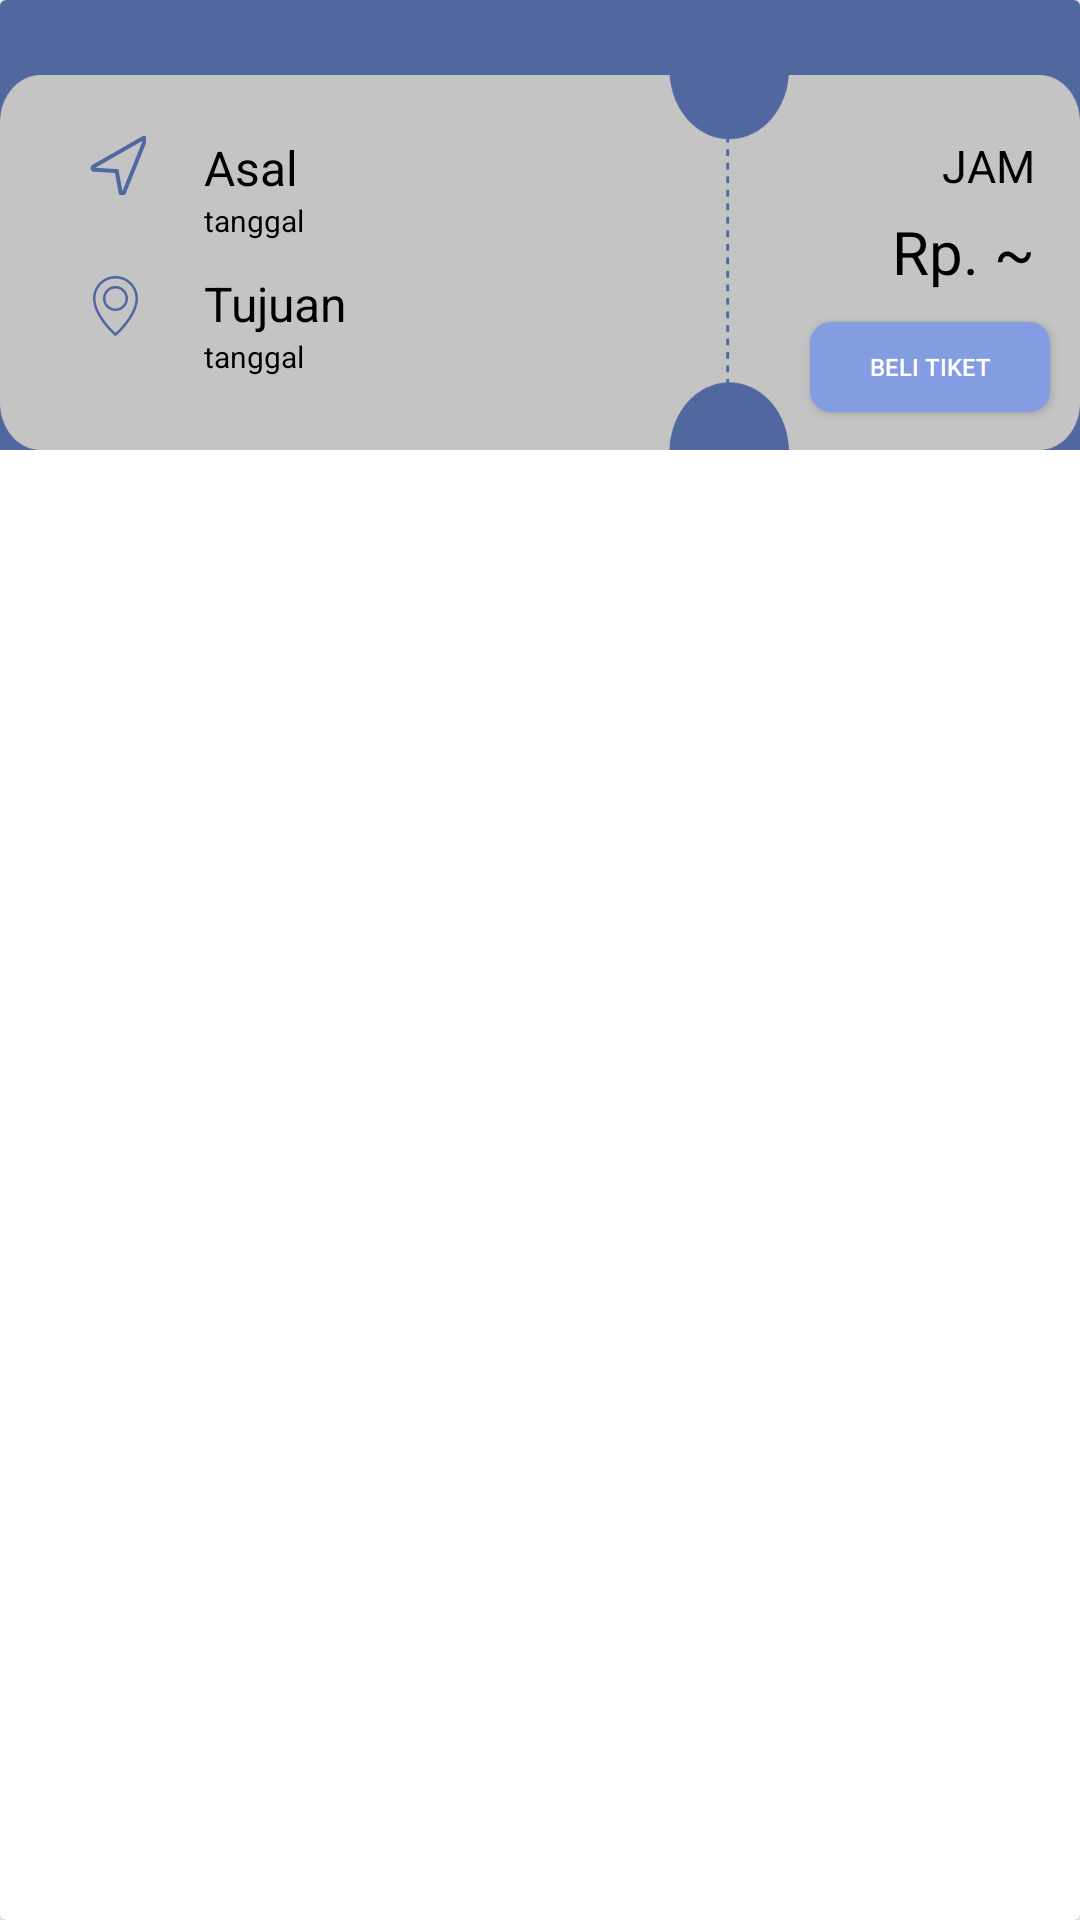

Named icons in this screenshot (1080w x 1920h) and their centers, (x=x, y=y):
loc: (x=115, y=306)
send: (x=118, y=165)
